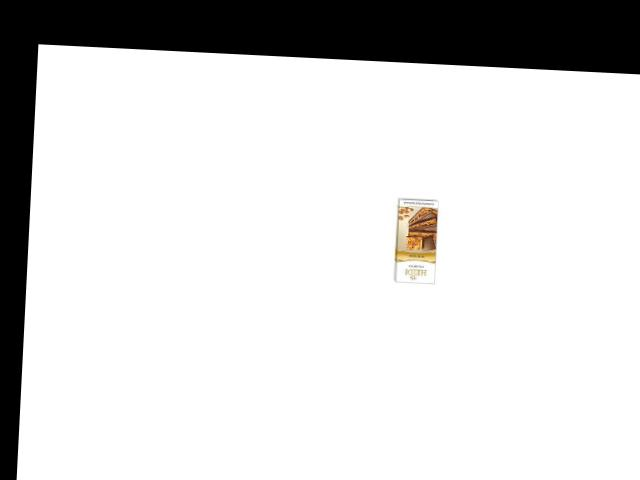chocolate: (377, 194, 447, 289)
